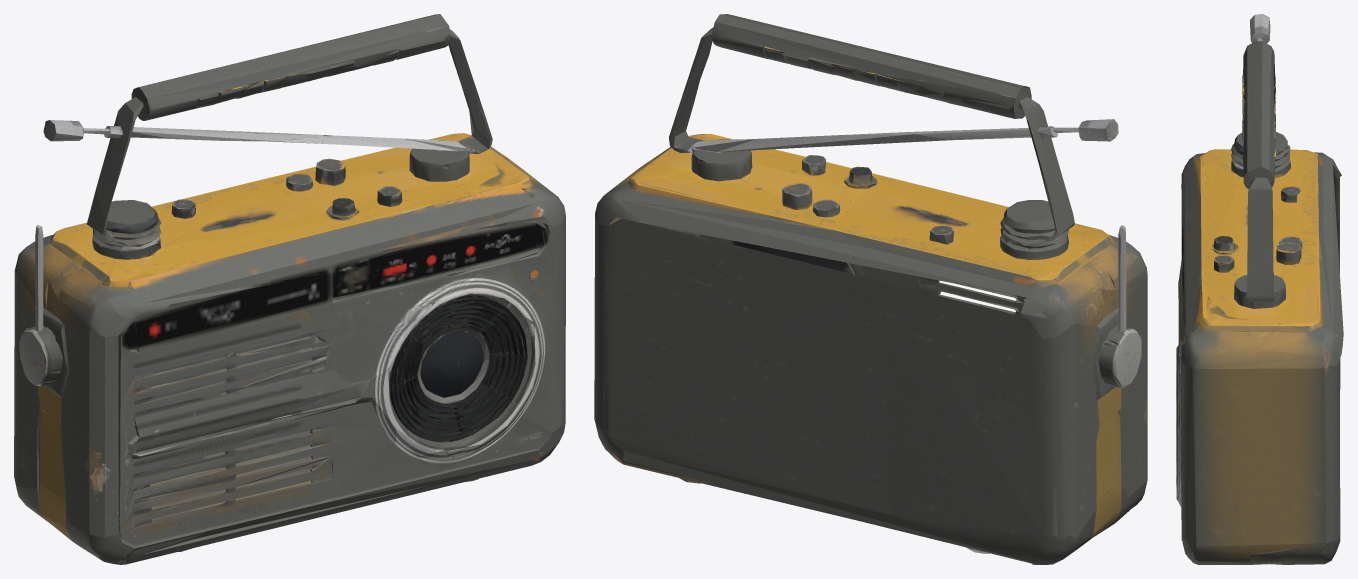
File: radio.glb
The picture shows the model from 3 angles, left to right: view 1: azimuth 30°, elevation 25°; view 2: azimuth 150°, elevation 25°; view 3: azimuth 270°, elevation 25°; orthographic projection. The views are drawn at different scales.
Bounding box in the file's own units: 1.9 × 1.62 × 0.6478.
Materials: 1 (1 with a texture image).
